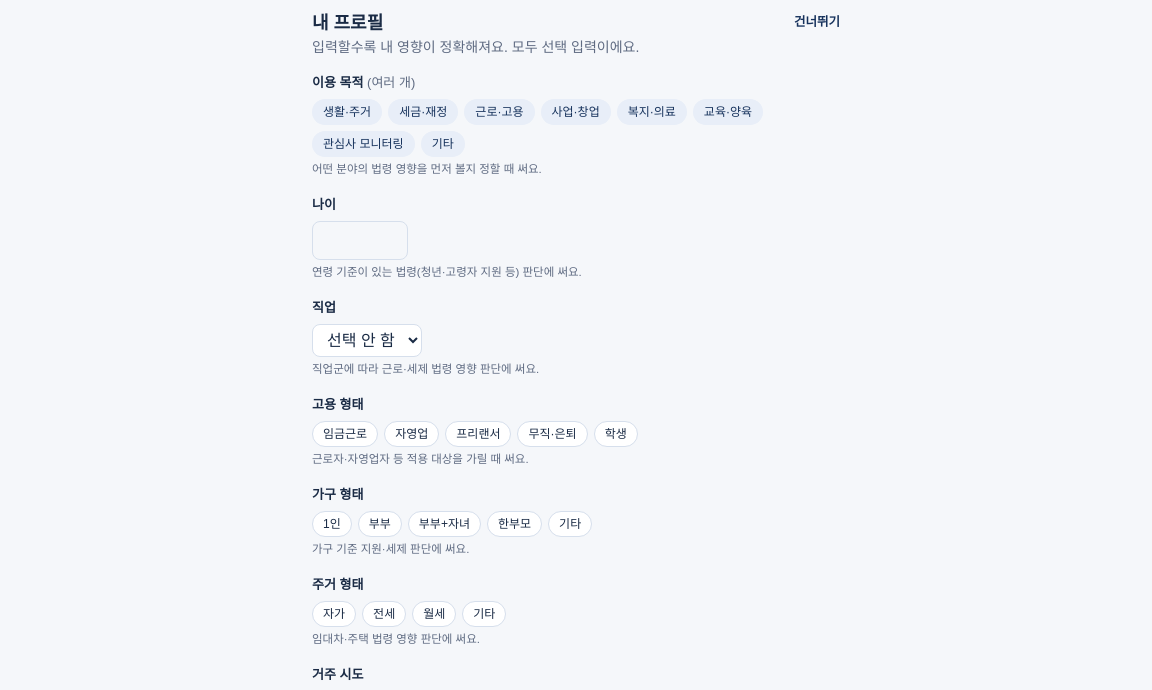
Test: ProfileScreen › 재동의 뒤 재저장이 실패하면 대화상자를 닫고 저장 실패 문구를 보인다
Step 1. Click the radio button labelled "전세" → (384, 614), box [362, 601, 406, 627]
(page scrolled)
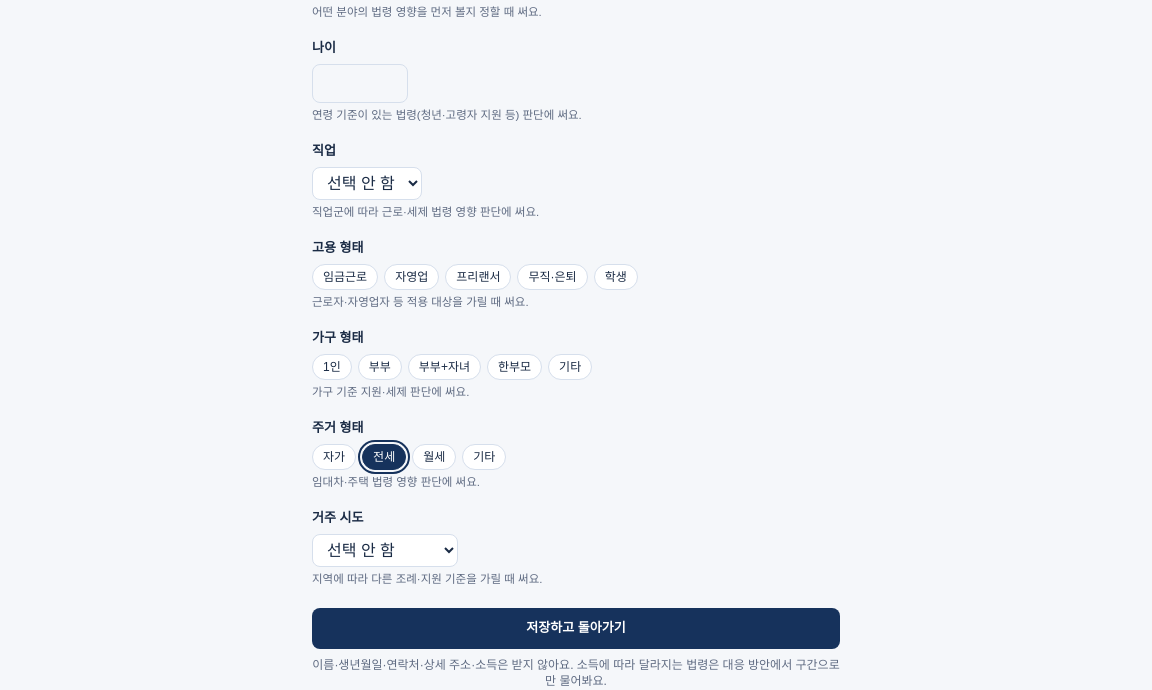
Step 2. Click the button "저장하고 돌아가기" → (576, 629), box [312, 608, 840, 649]
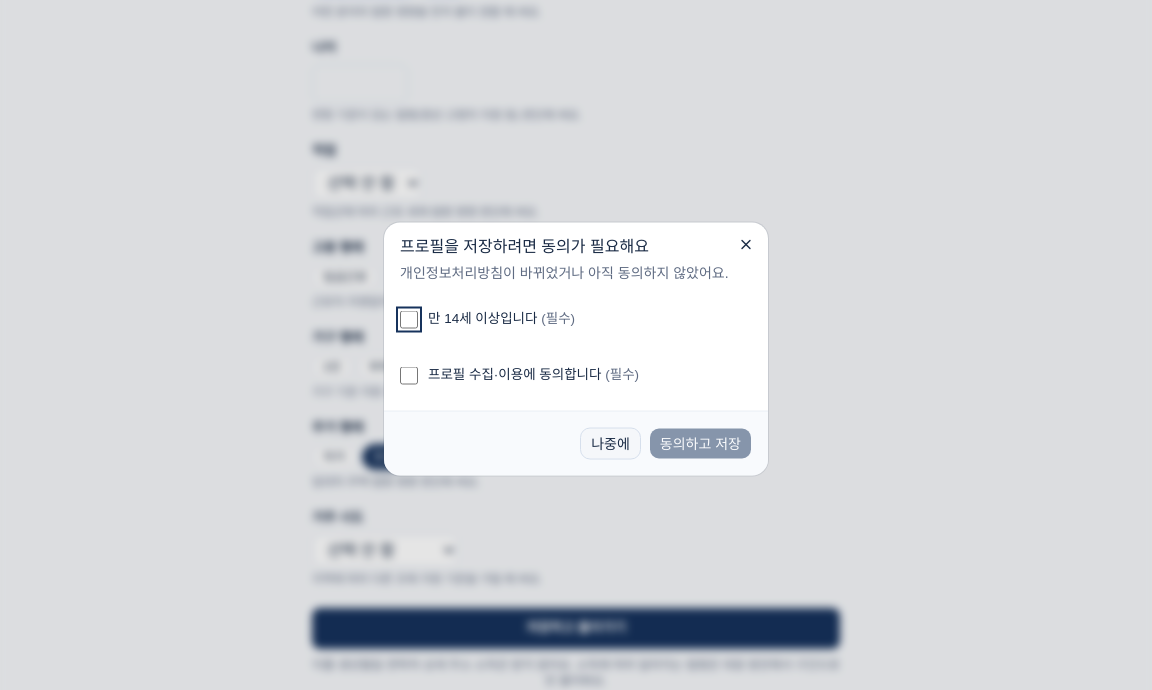
Expected: the dialog "프로필을 저장하려면 동의가 필요해요" is shown, [384, 222, 768, 476]
Step 3. Click the checkbox labelled "만 14세 이상입니다 (필수)" → (409, 320), box [400, 310, 418, 328]
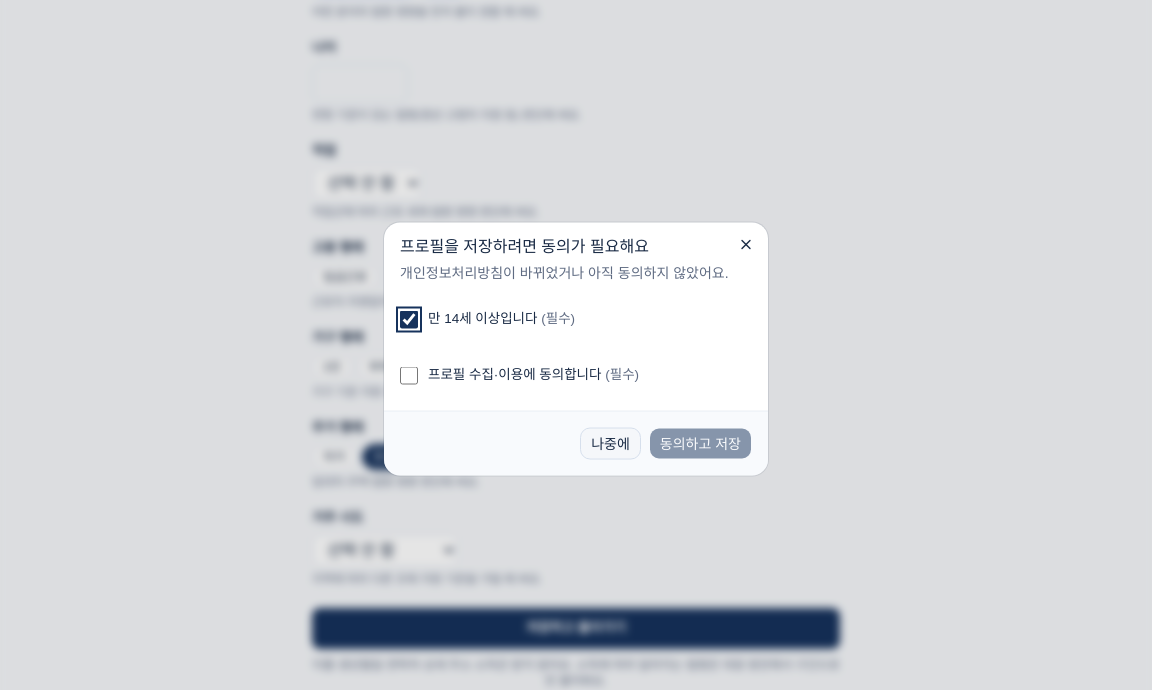
Step 4. Click the checkbox labelled "프로필 수집·이용에 동의합니다 (필수)" → (409, 376), box [400, 366, 418, 384]
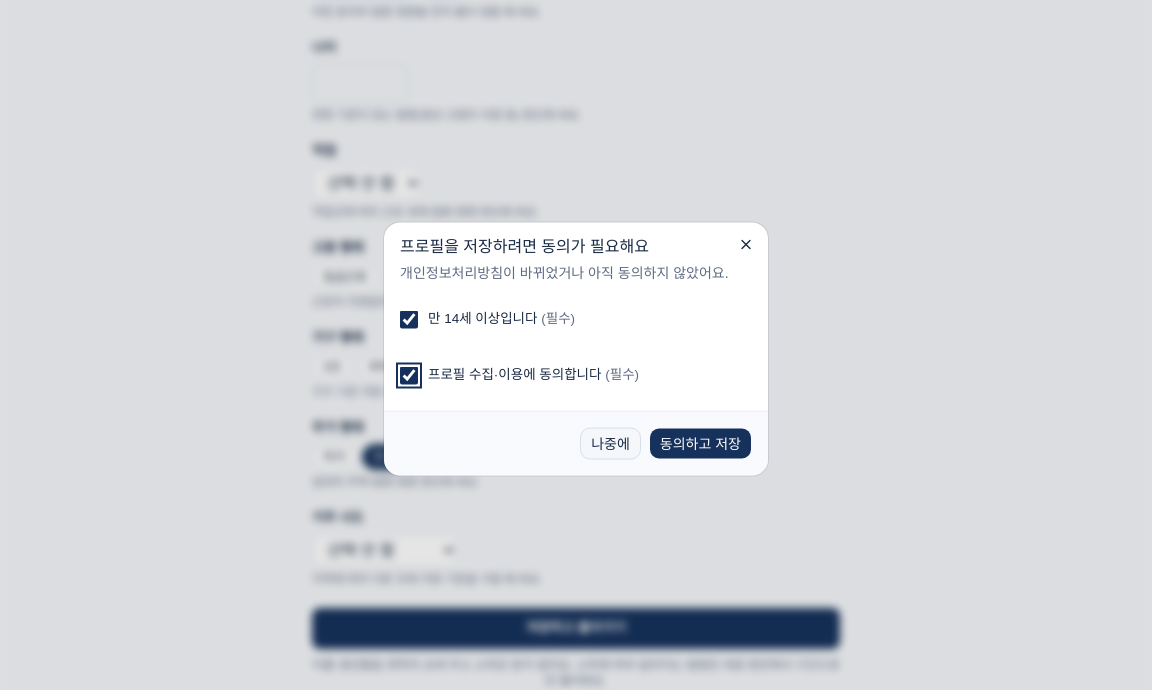
Step 5. Click the button "동의하고 저장" → (700, 444), box [649, 428, 752, 460]
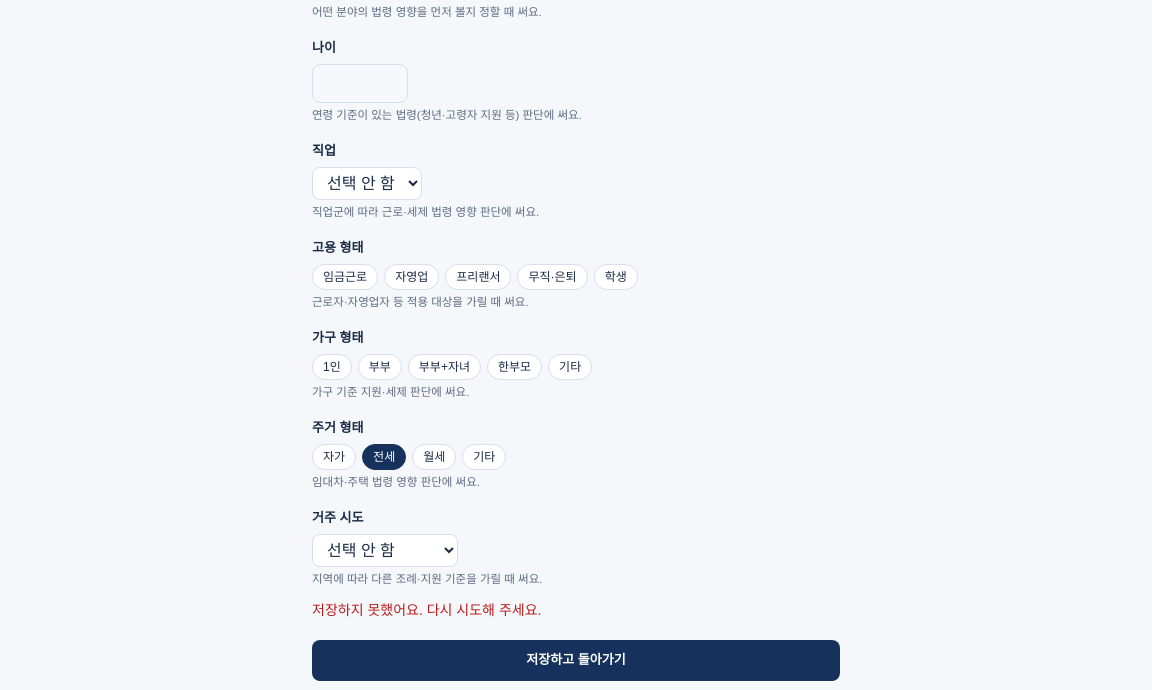
Expected: the text "저장하지 못했어요. 다시 시도해 주세요." is shown, [312, 602, 541, 618]
Expected: the dialog is gone
